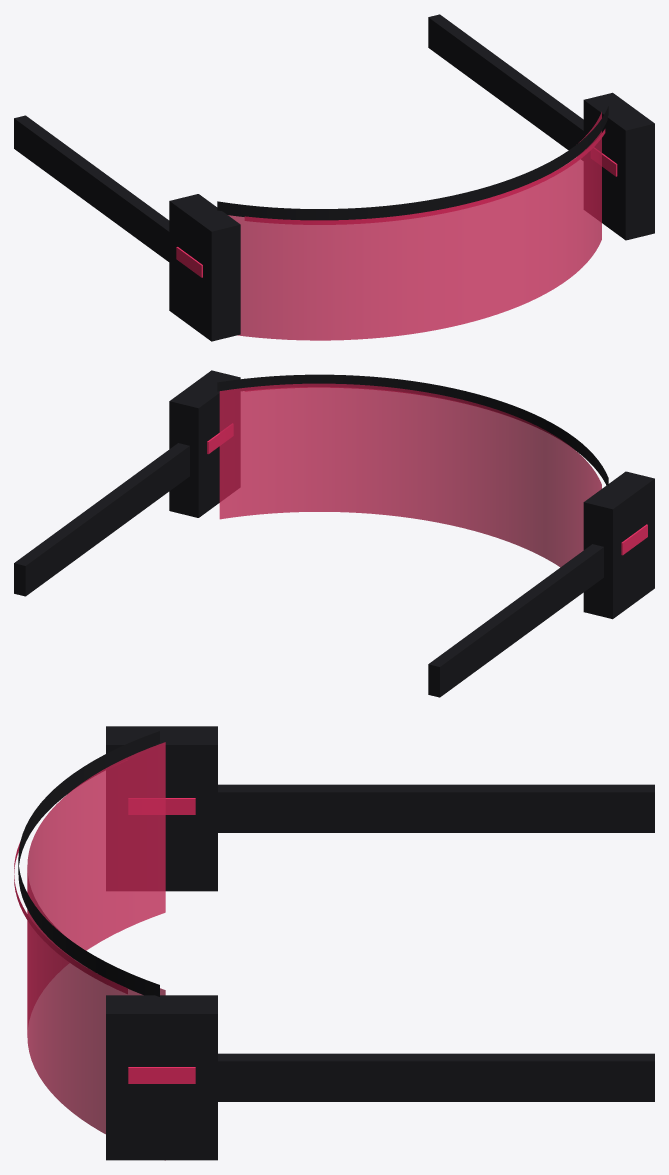
The model's file is glasses-magenta.glb.
The picture shows the model from 3 angles, top to bottom: view 1: azimuth 30°, elevation 25°; view 2: azimuth 150°, elevation 25°; view 3: azimuth 270°, elevation 25°; orthographic projection. The views are drawn at different scales.
Visible parts, largest first — view 1: Visor_Shield, Module_Left, Module_Right, Arm_Left, Arm_Right, Brow_Frame, LED_Strip; view 2: Visor_Shield, Module_Left, Module_Right, Arm_Left, Arm_Right, Brow_Frame; view 3: Visor_Shield, Arm_Left, Arm_Right, Module_Right, Module_Left, Brow_Frame, Light_Right, Light_Left, LED_Strip.
Part boxes in pixels (left/top/right/bottom): Visor_Shield: left=228, top=112, right=601, bottom=340; Module_Left: left=169, top=194, right=240, bottom=341; Module_Right: left=583, top=92, right=654, bottom=240; Arm_Left: left=14, top=115, right=169, bottom=261; Arm_Right: left=428, top=14, right=583, bottom=159; Brow_Frame: left=217, top=106, right=608, bottom=220; LED_Strip: left=244, top=129, right=605, bottom=224; Visor_Shield: left=219, top=383, right=601, bottom=567; Module_Left: left=583, top=471, right=654, bottom=619; Module_Right: left=169, top=370, right=240, bottom=517; Arm_Left: left=428, top=544, right=603, bottom=697; Arm_Right: left=14, top=443, right=189, bottom=596; Brow_Frame: left=217, top=374, right=608, bottom=486; Visor_Shield: left=27, top=742, right=165, bottom=1160; Arm_Left: left=218, top=784, right=654, bottom=832; Arm_Right: left=218, top=1053, right=654, bottom=1101; Module_Right: left=106, top=995, right=217, bottom=1160; Module_Left: left=106, top=726, right=217, bottom=891; Brow_Frame: left=18, top=731, right=159, bottom=996; Light_Right: left=128, top=1067, right=195, bottom=1083; Light_Left: left=129, top=798, right=195, bottom=814; LED_Strip: left=14, top=842, right=127, bottom=994.
Bounding box in the file's own units: 0.153 × 0.044 × 0.143.
